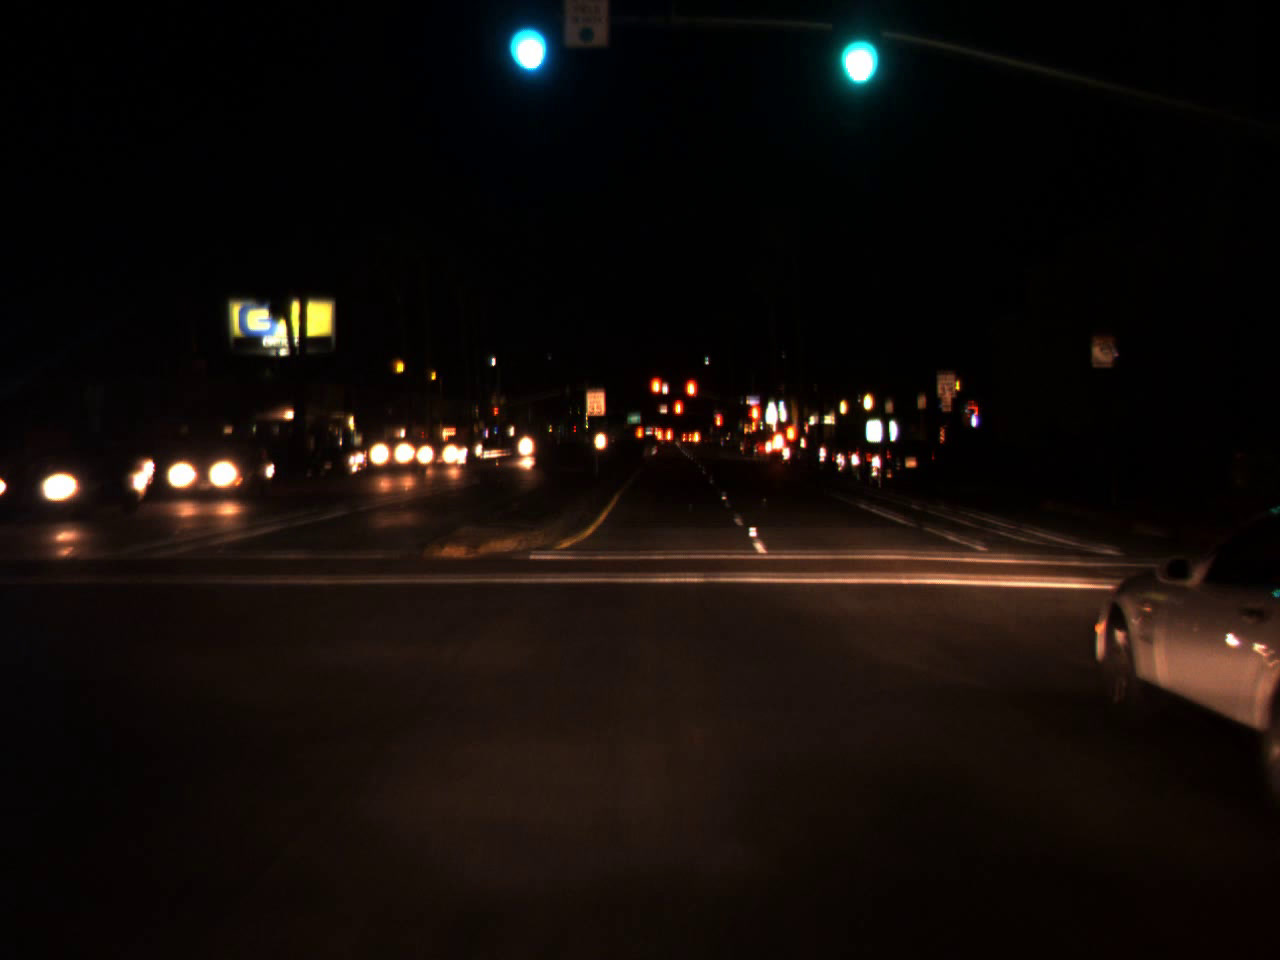go: (834, 7, 877, 94), (506, 0, 549, 82)
stop: (648, 374, 664, 411), (684, 376, 697, 419), (671, 397, 684, 432), (749, 403, 761, 435), (493, 406, 499, 424)
